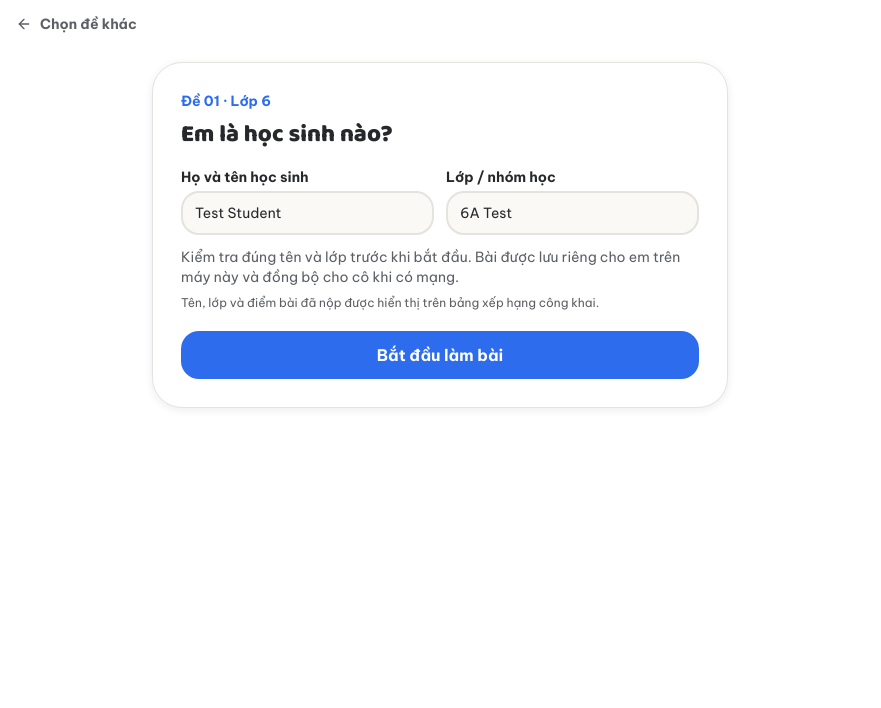
exam modes › makes the full reflowed option clickable without duplicating its text or changing grading
Click the button "Bắt đầu làm bài". click: (440,355)
box: x1=181 y1=331 x2=699 y2=379
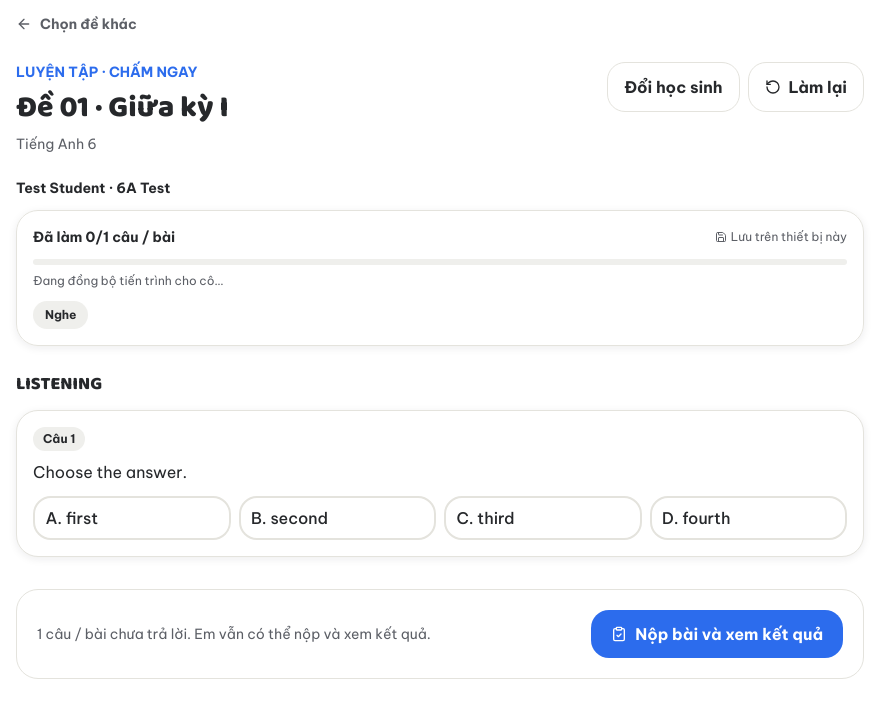
Check: the text "B. second" is shown once, box x1=251 y1=508 x2=328 y2=528
Click the button "B. second". click: (337,518)
box: x1=238 y1=496 x2=436 y2=540
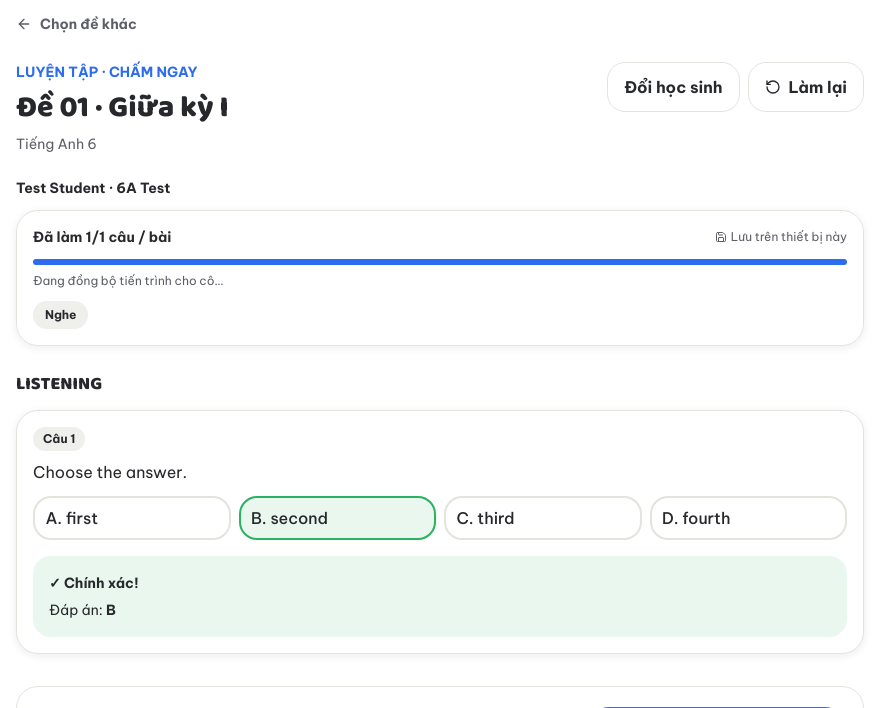
Check: the text "✓ Chính xác!" is shown, box x1=49 y1=574 x2=139 y2=592
